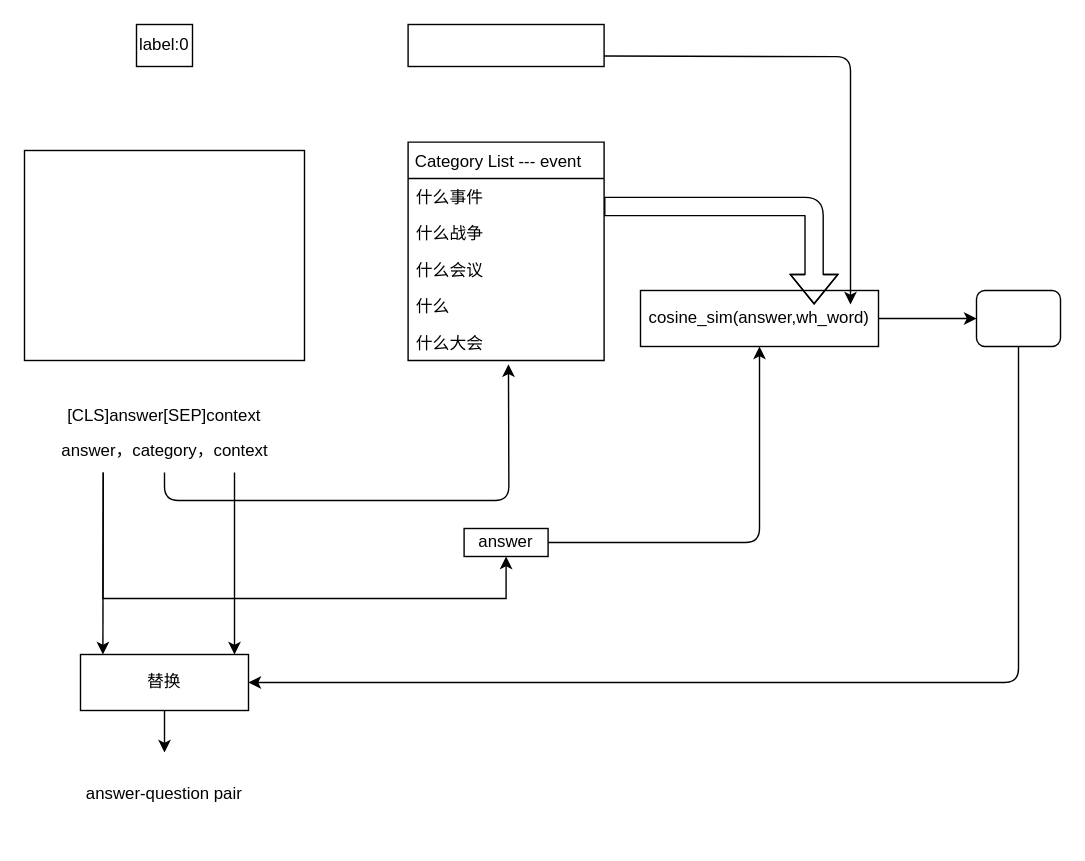
Some shapes in this 1085 by 861 pixel diagram are drawn without their labels. The centre of each missing label's shape, as x and y in pixels:
bert: [163,254]
wh_word: [1017,317]
wh_word = "什么": [505,44]
